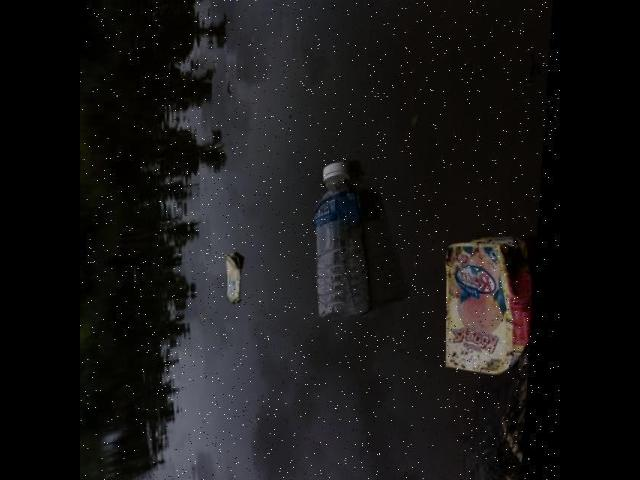Bottle: (309, 144, 369, 342)
Box: (437, 224, 536, 388), (222, 253, 250, 315)
